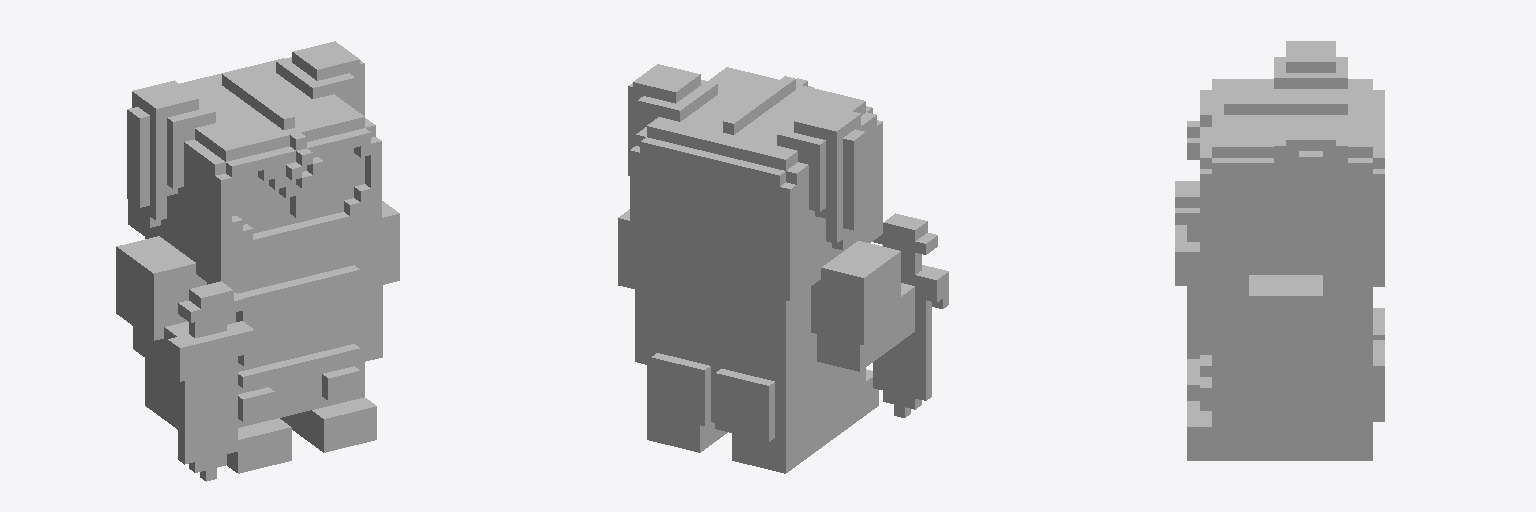
File: Package 01 Necro Dungeon-16.obj
The picture shows the model from 3 angles: view 1: azimuth 30°, elevation 25°; view 2: azimuth 150°, elevation 25°; view 3: azimuth 270°, elevation 25°; orthographic projection.
Parts seen in each view (by area): view 1: object 1; view 2: object 1; view 3: object 1.
Part boxes in pixels (left/top/right/bottom): object 1: left=116, top=41, right=399, bottom=481; object 1: left=618, top=64, right=948, bottom=473; object 1: left=1175, top=41, right=1384, bottom=460.
Size of the model in its own units: 2.4 by 3 by 1.7.